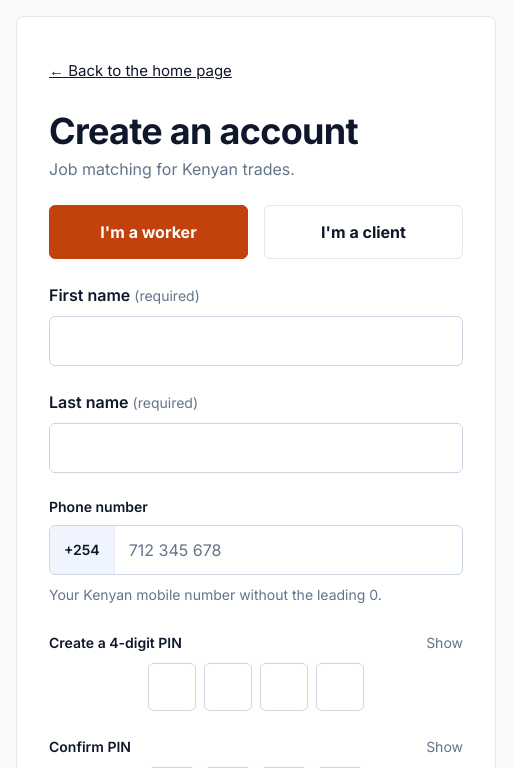
it: the PIN and its confirmation › can be revealed so the person can check what they typed
Type "4" into the password field named "Create a 4-digit PIN, digit" at (172, 687), box [148,663,196,711]
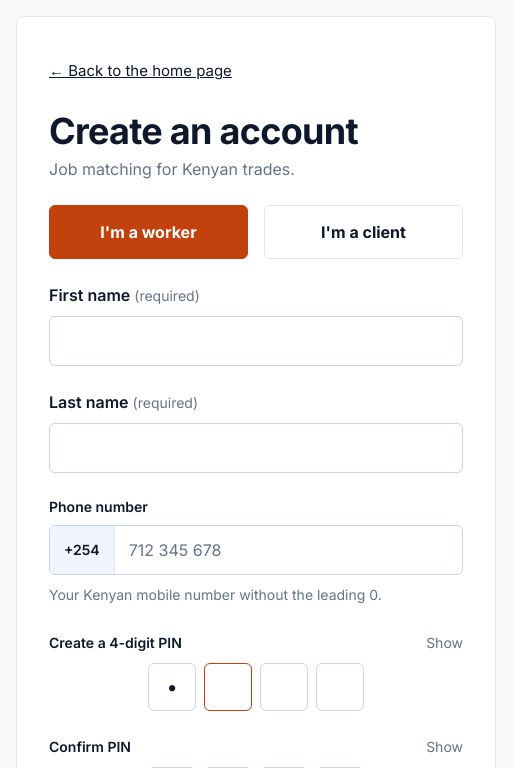
Type "8" into the password field named "Create a 4-digit PIN, digit" at (228, 687), box [204,663,252,711]
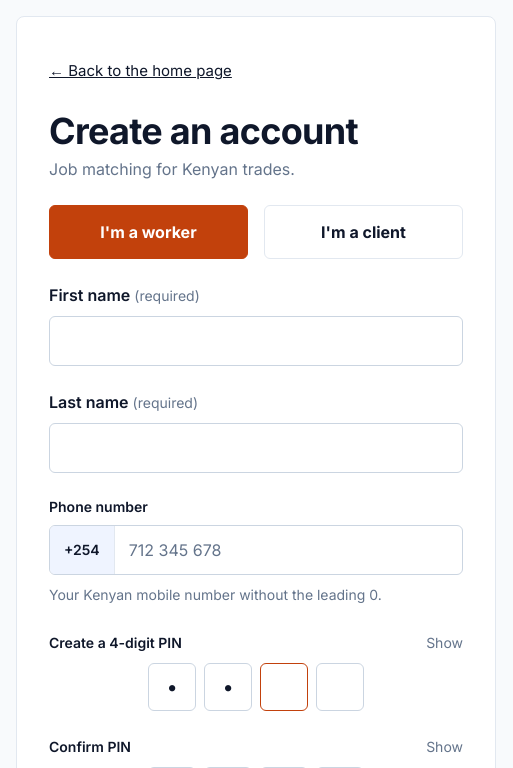
Type "2" into the password field named "Create a 4-digit PIN, digit" at (284, 687), box [260,663,308,711]
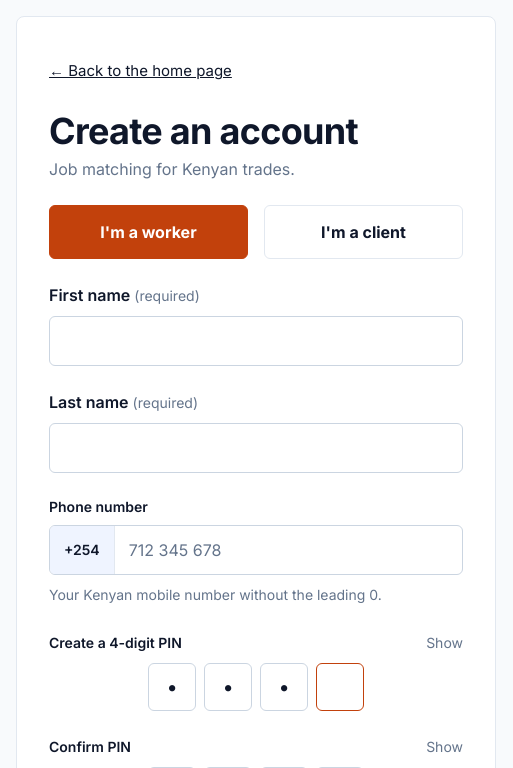
Type "1" into the password field named "Create a 4-digit PIN, digit" at (340, 687), box [316,663,364,711]
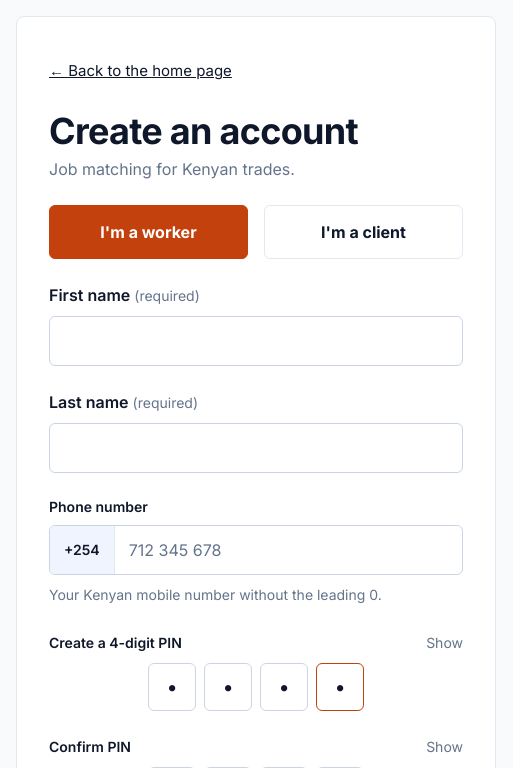
Click the button "Show" in the row of "Create a 4-digit PIN" at (445, 643), box [426,631,463,655]
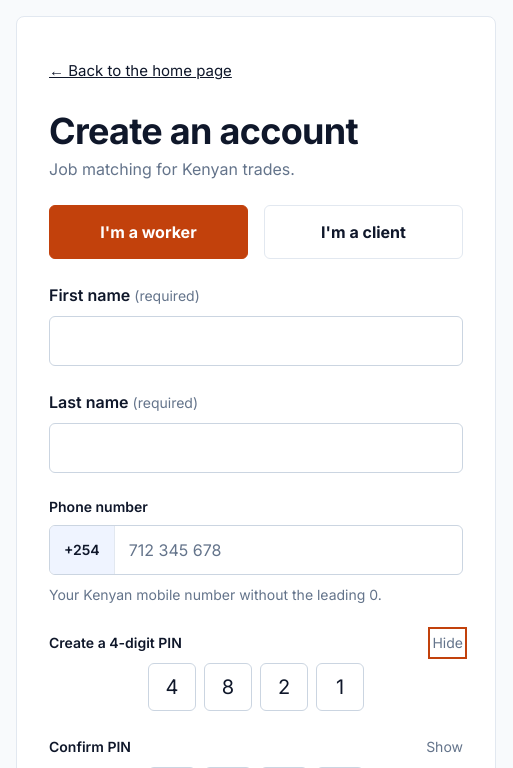
Expected: the field named "Create a 4-digit PIN, digit" shows its text, [148,663,196,711]
